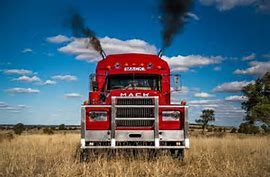smoke: (61, 5, 104, 53), (155, 1, 194, 49)
